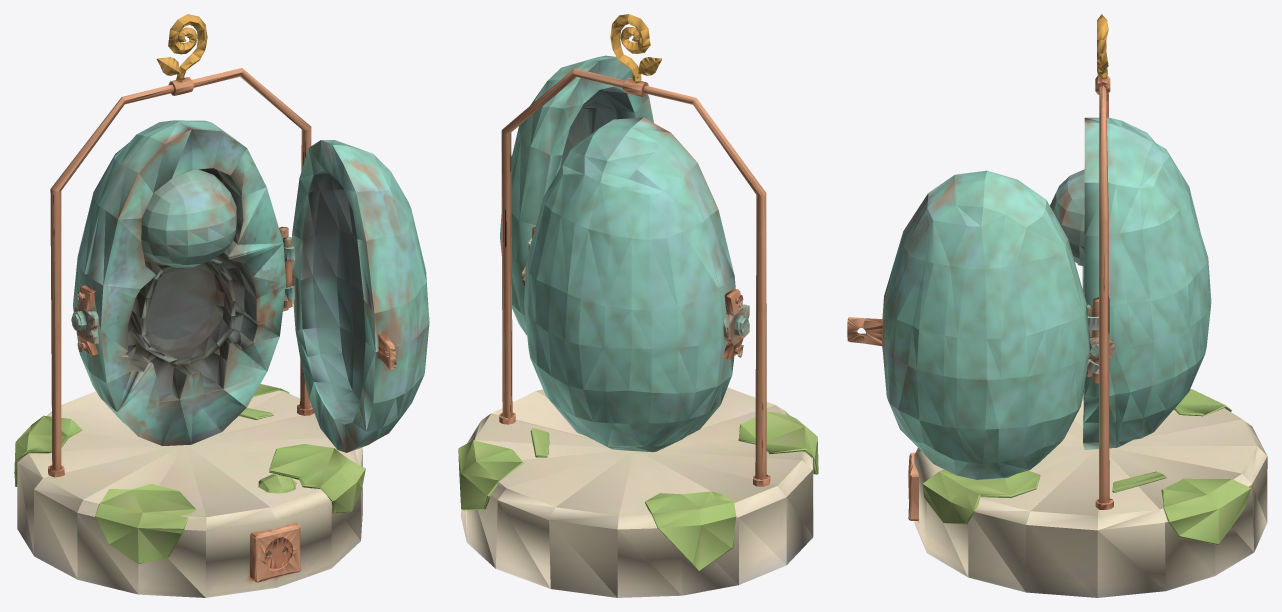
Rendered from moule.glb.
3 renders of one model, left to right at view 1: azimuth 30°, elevation 25°; view 2: azimuth 150°, elevation 25°; view 3: azimuth 270°, elevation 25°, orthographic.
Visible parts, largest first — view 1: Moule; view 2: Moule; view 3: Moule.
Part boxes in pixels (x1,y1,x2,y2): Moule: (14,14,429,597); Moule: (458,14,818,597); Moule: (847,14,1267,597).
Bounding box in the file's own units: 1.75 × 2.6 × 1.95.
Materials: 1 (1 with a texture image).
